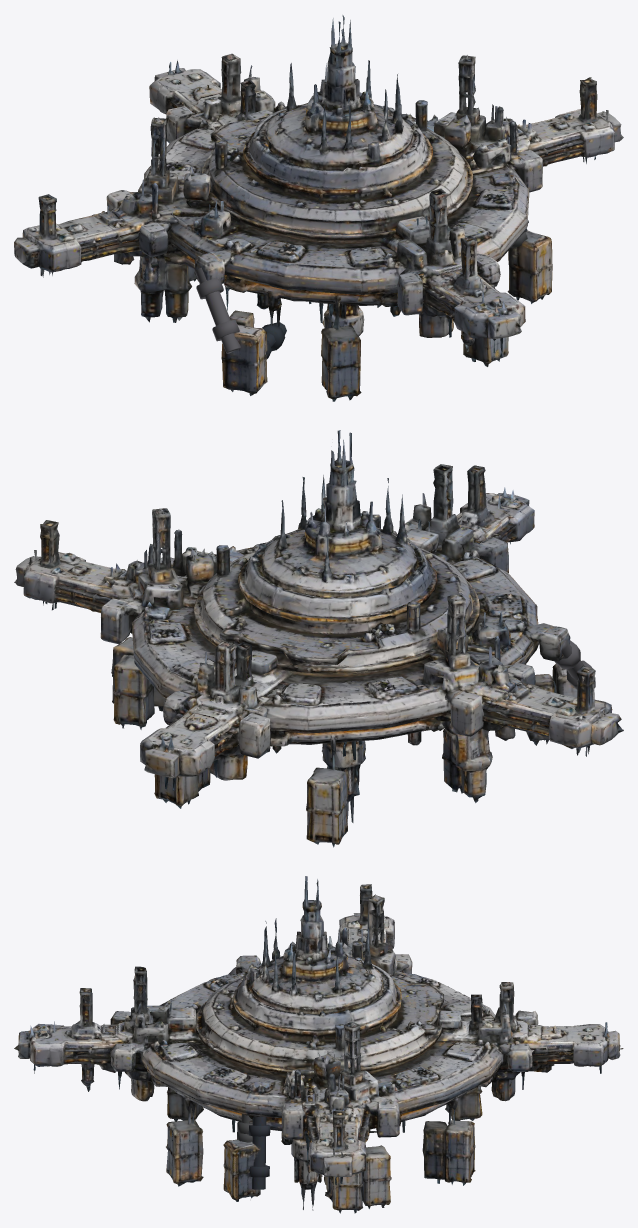
File: st3d_omega_emporium.glb
The picture shows the model from 3 angles, top to bottom: view 1: azimuth 30°, elevation 25°; view 2: azimuth 150°, elevation 25°; view 3: azimuth 270°, elevation 25°; orthographic projection. The views are drawn at different scales.
Visible parts, largest first — view 1: HOMELANCER_Station3D_Omega-WorldsEndEmporium_v1; view 2: HOMELANCER_Station3D_Omega-WorldsEndEmporium_v1; view 3: HOMELANCER_Station3D_Omega-WorldsEndEmporium_v1.
Boxes of the visible parts, box(x1,y1,x2,y2) form: HOMELANCER_Station3D_Omega-WorldsEndEmporium_v1: box(14, 15, 623, 401); HOMELANCER_Station3D_Omega-WorldsEndEmporium_v1: box(14, 430, 623, 847); HOMELANCER_Station3D_Omega-WorldsEndEmporium_v1: box(14, 876, 623, 1213).
Bounding box in the file's own units: 0.9636 × 0.5896 × 0.988.
Materials: 1 (1 with a texture image).
